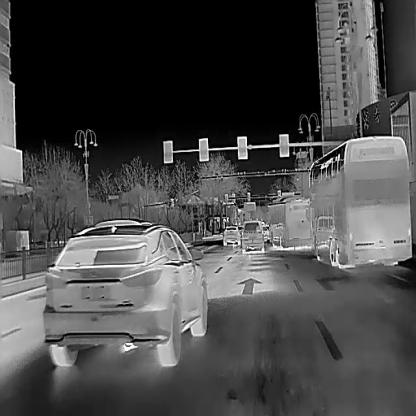bus: (307, 135, 412, 270), (267, 195, 312, 250)
car: (42, 219, 208, 368), (242, 219, 262, 253), (222, 224, 240, 245)
